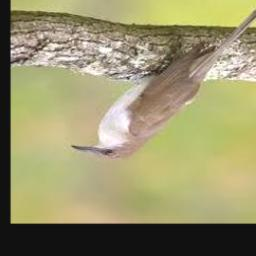Cuckoo: (71, 0, 256, 162)
